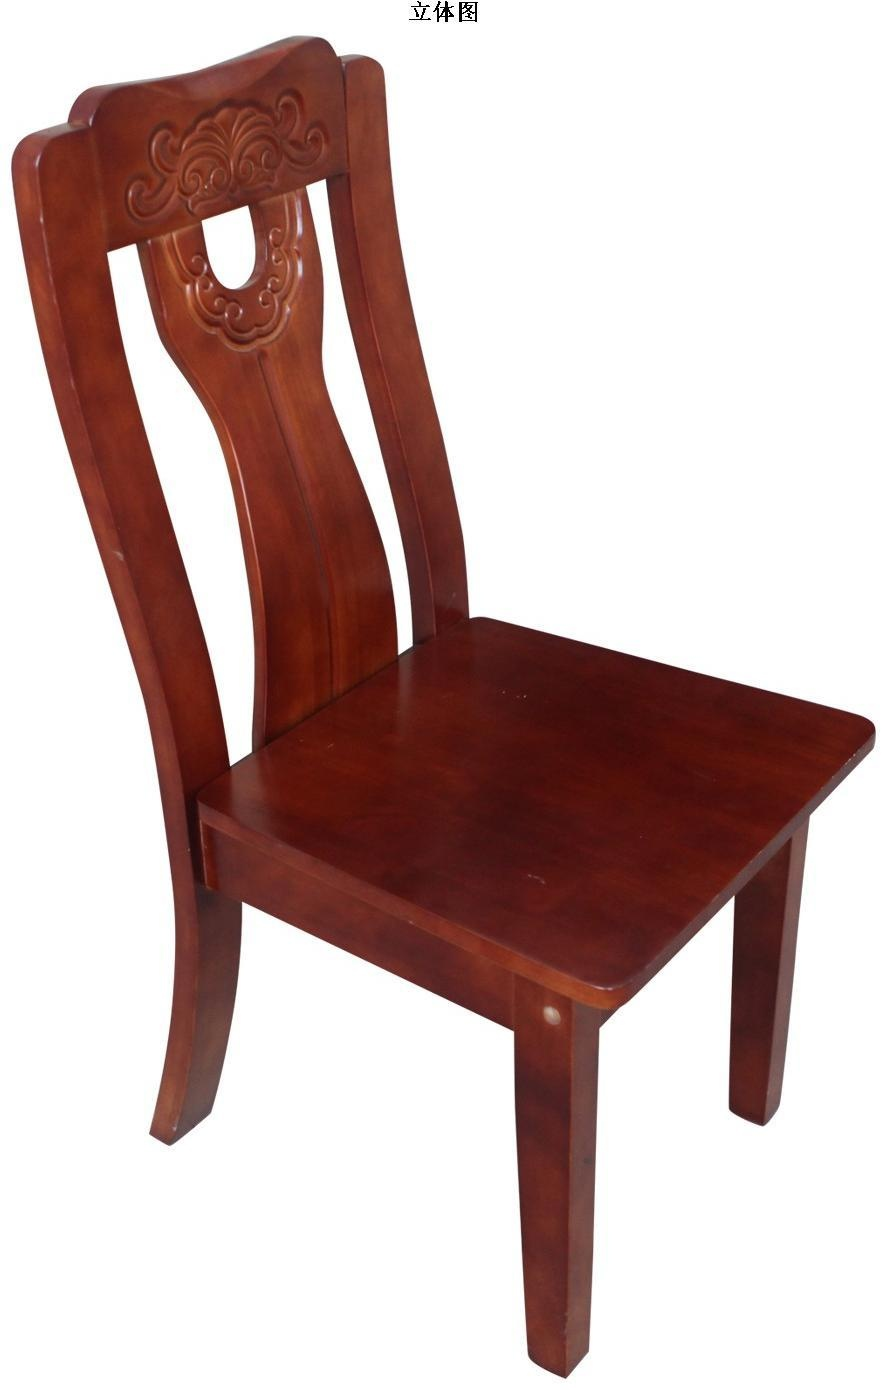obstacle: (13, 38, 873, 1373)
